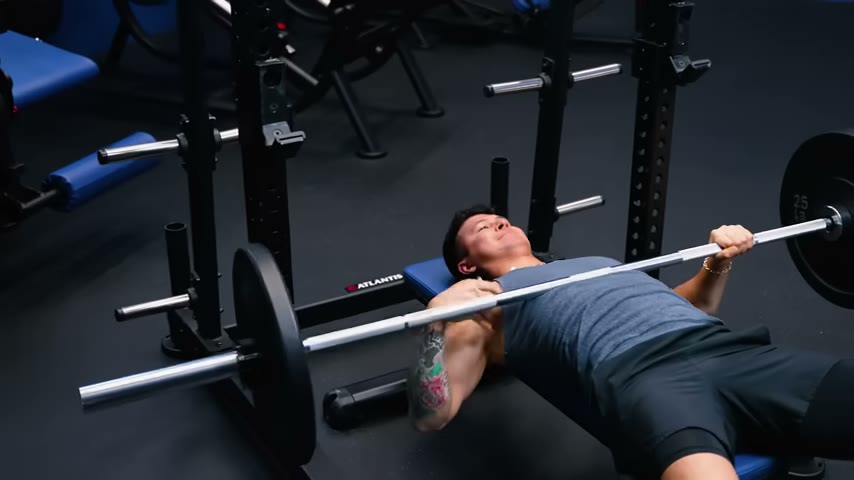barbell_plate_side: (62, 10, 297, 479), (758, 125, 854, 457)
